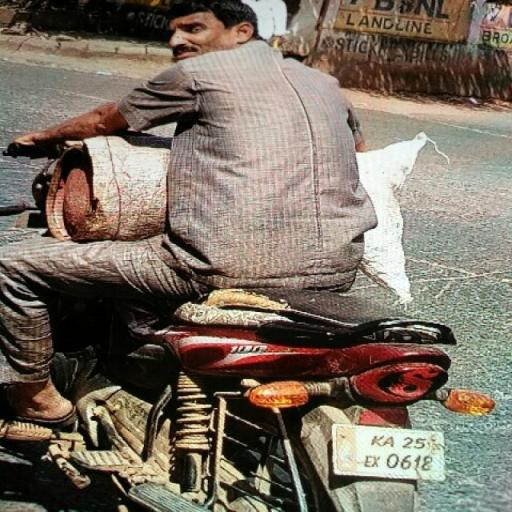bike: (0, 0, 499, 512)
numberplate: (328, 422, 450, 486)
withouthelmet: (169, 0, 254, 57)
